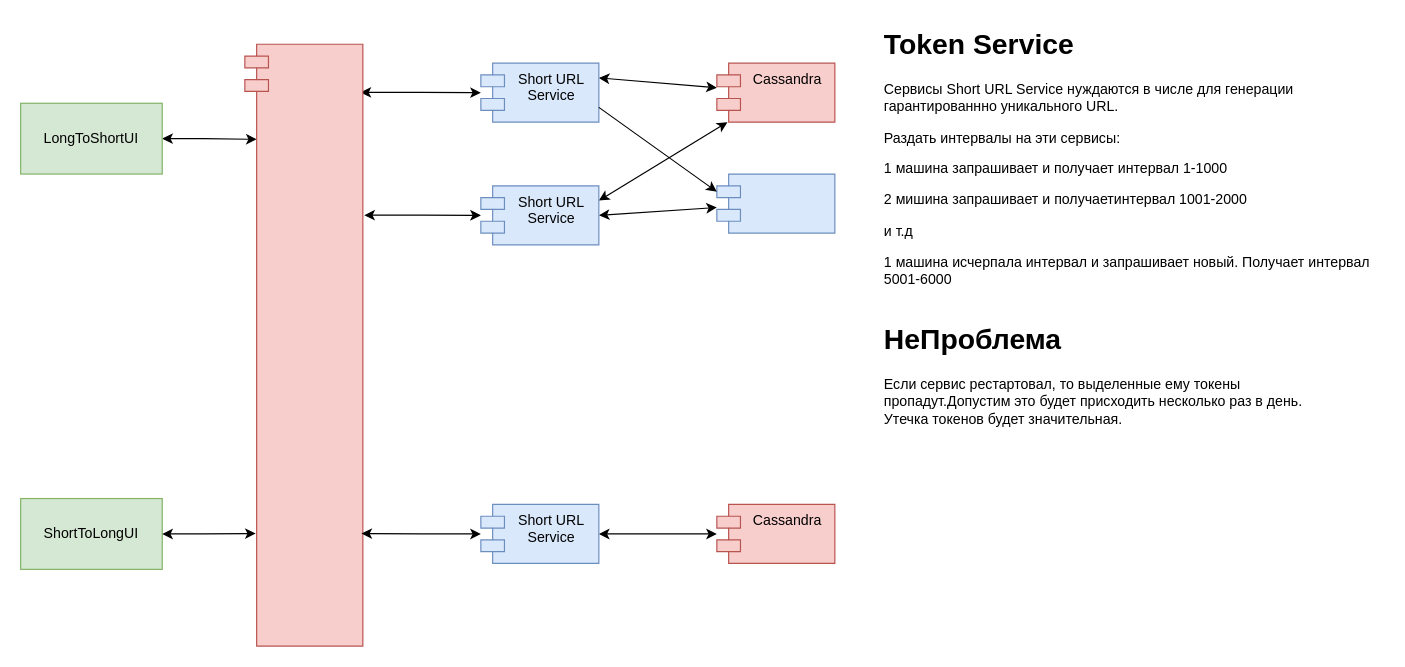
The diagram is 1405 pixels wide and 667 high, and some of its shapes have lost their labels. Each missing label, with the centre of its shape:
"LB +Reverse Proxy" goes at [303,344].
"Token Service" goes at [775,203].
